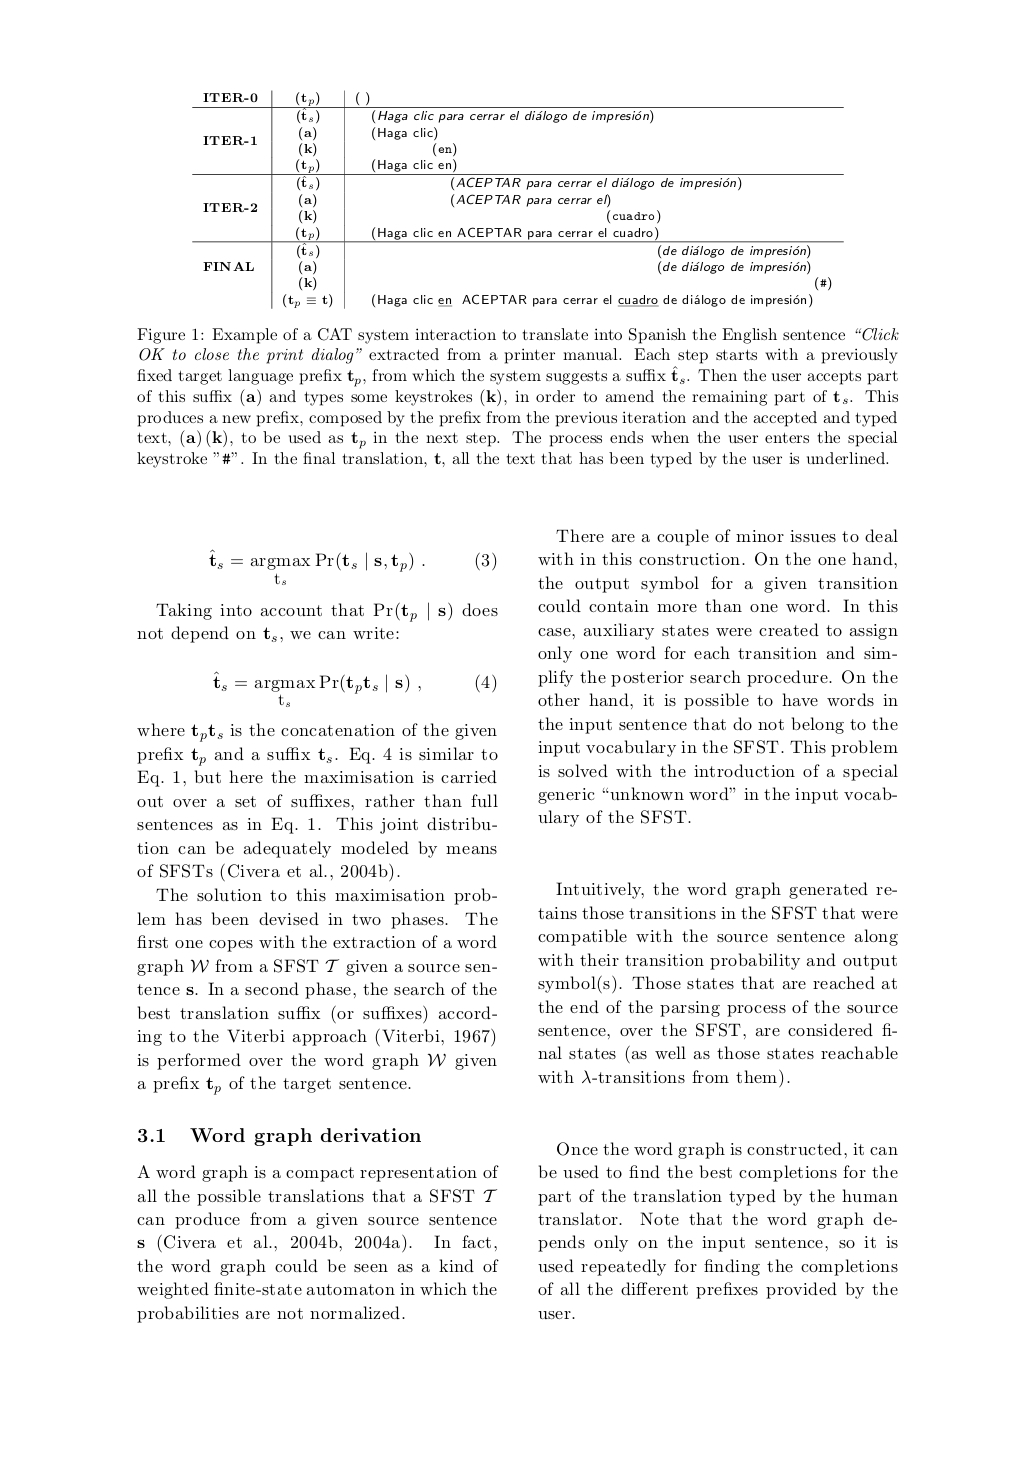Table: (192, 89, 844, 309)
formula: (213, 670, 497, 707), (209, 549, 497, 584)
